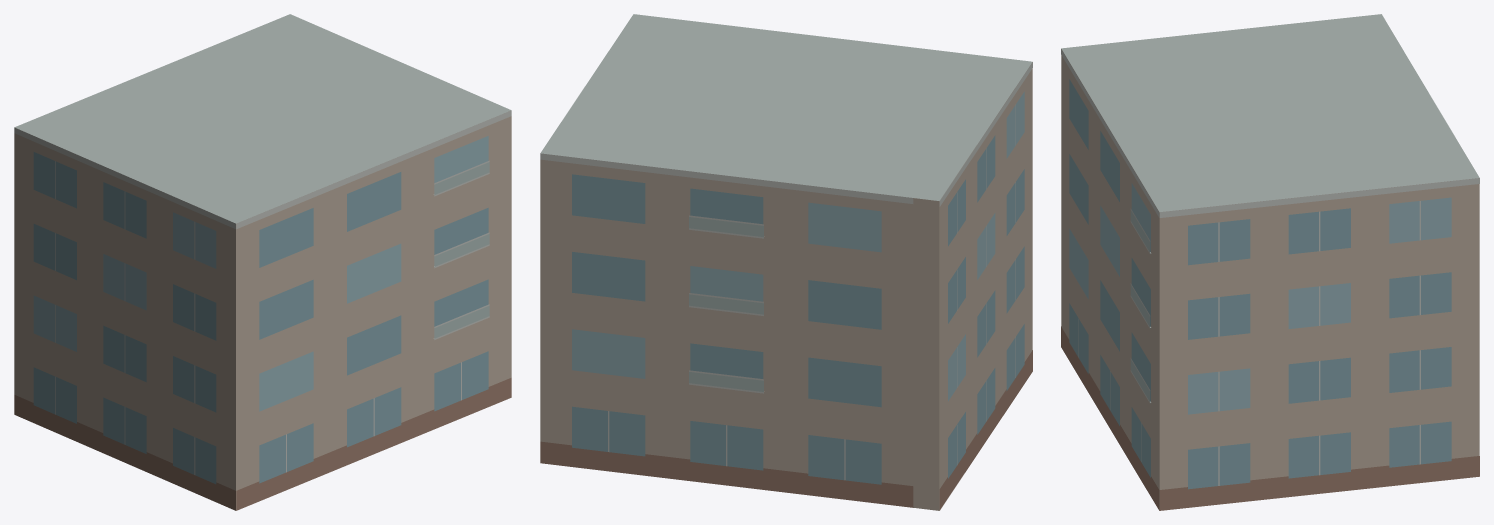
File: residential-8cc90cd4-43ce-465e-b3ca-82ee2f448137.glb
3 renders of one model, left to right at view 1: azimuth 30°, elevation 25°; view 2: azimuth 150°, elevation 25°; view 3: azimuth 270°, elevation 25°, orthographic. The views are drawn at different scales.
Parts seen in each view (by area): view 1: residential-8cc90cd4-43ce-465e-b3ca-82ee2f448137.tmp; view 2: residential-8cc90cd4-43ce-465e-b3ca-82ee2f448137.tmp; view 3: residential-8cc90cd4-43ce-465e-b3ca-82ee2f448137.tmp.
Part boxes in pixels (x1,y1,x2,y2): residential-8cc90cd4-43ce-465e-b3ca-82ee2f448137.tmp: (14, 14, 511, 510); residential-8cc90cd4-43ce-465e-b3ca-82ee2f448137.tmp: (540, 14, 1032, 510); residential-8cc90cd4-43ce-465e-b3ca-82ee2f448137.tmp: (1061, 14, 1479, 510).
Bounding box in the file's own units: 17.37 × 12.2 × 15.51.
